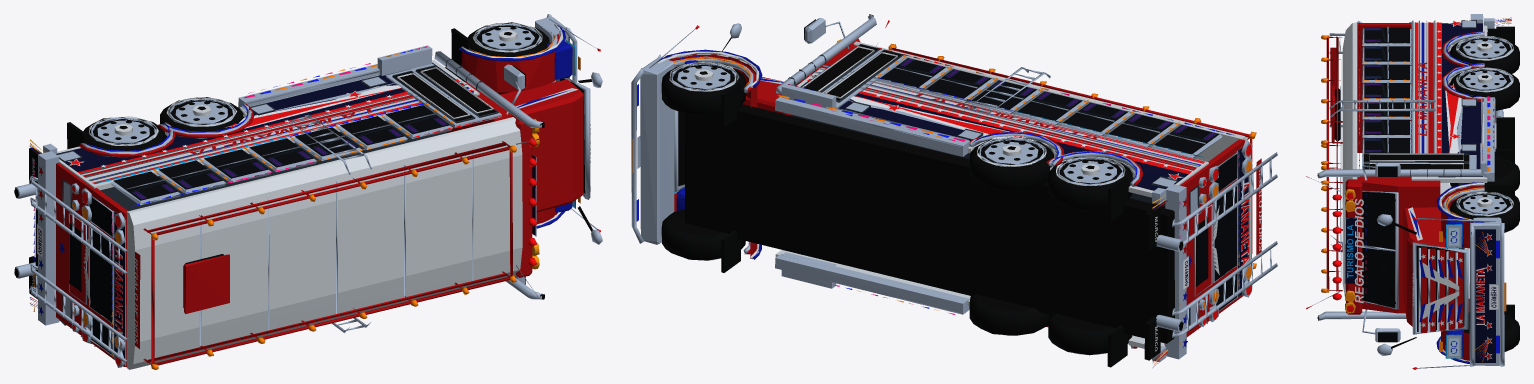
Rendered from 02-la-mamaneta-low.obj.
The picture shows the model from 3 angles, left to right: view 1: azimuth 30°, elevation 25°; view 2: azimuth 150°, elevation 25°; view 3: azimuth 270°, elevation 25°; orthographic projection. The views are drawn at different scales.
Parts seen in each view (by area): view 1: 02-la-mamaneta-low; view 2: 02-la-mamaneta-low; view 3: 02-la-mamaneta-low.
Boxes of the visible parts, left/top/right/bottom form: 02-la-mamaneta-low: left=14, top=14, right=602, bottom=369; 02-la-mamaneta-low: left=631, top=14, right=1277, bottom=367; 02-la-mamaneta-low: left=1306, top=14, right=1519, bottom=369.
Size of the model in its own units: 9.61 by 3.65 by 3.94.
